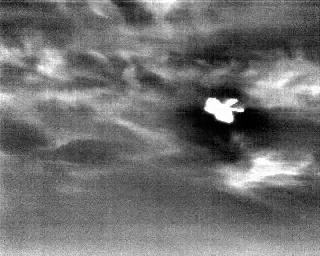HELICOPTER: (203, 91, 248, 128)
